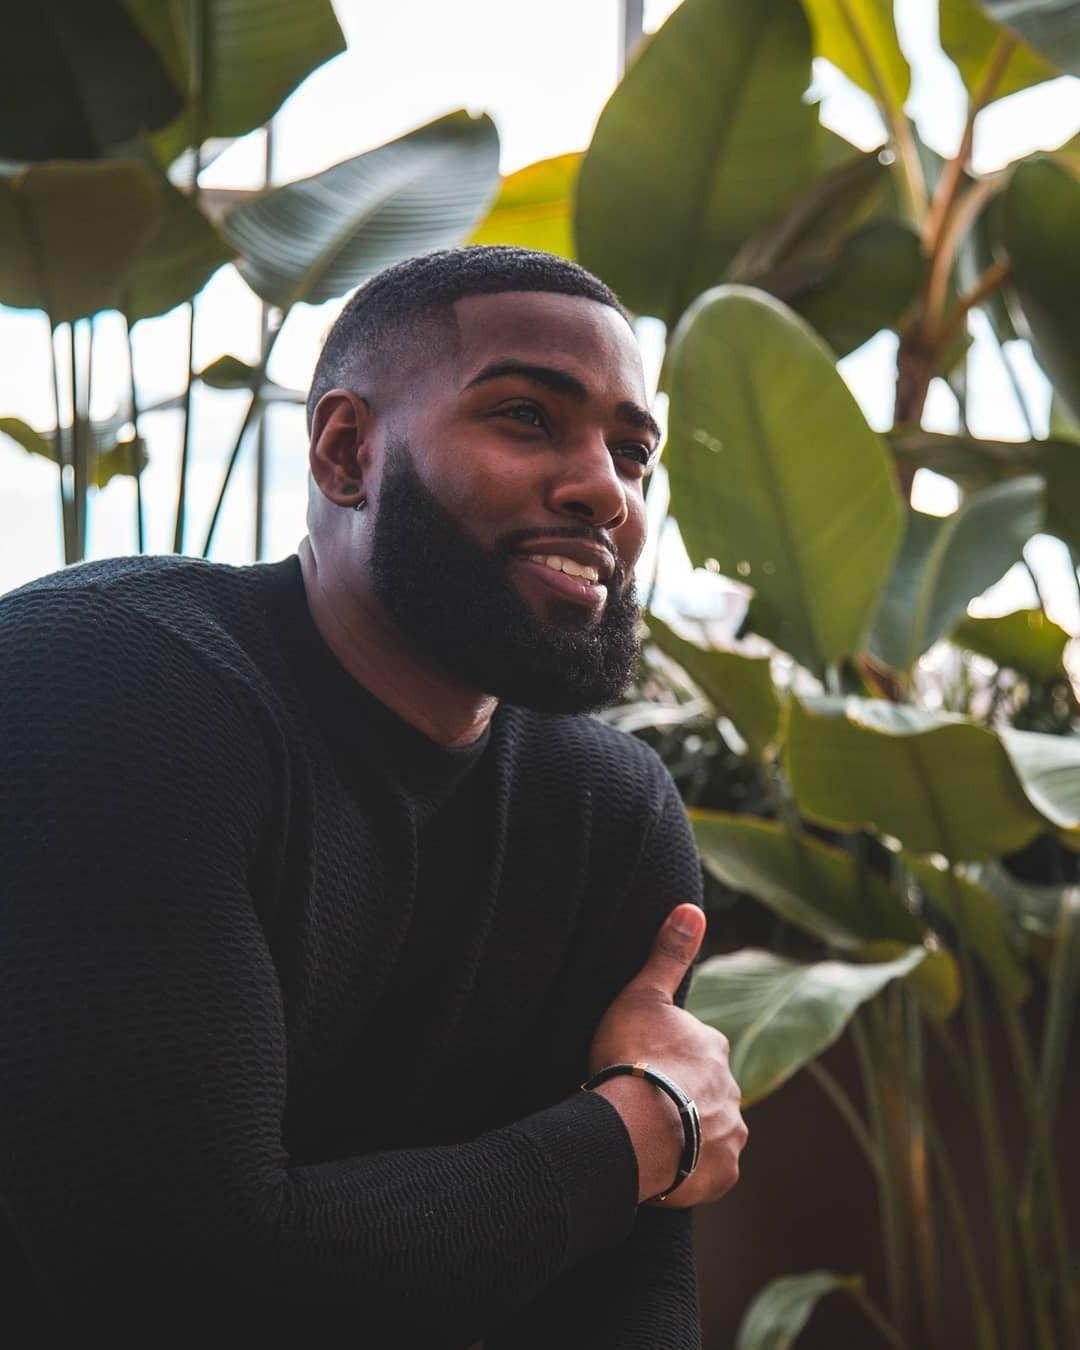Sober: (411, 298, 661, 673)
